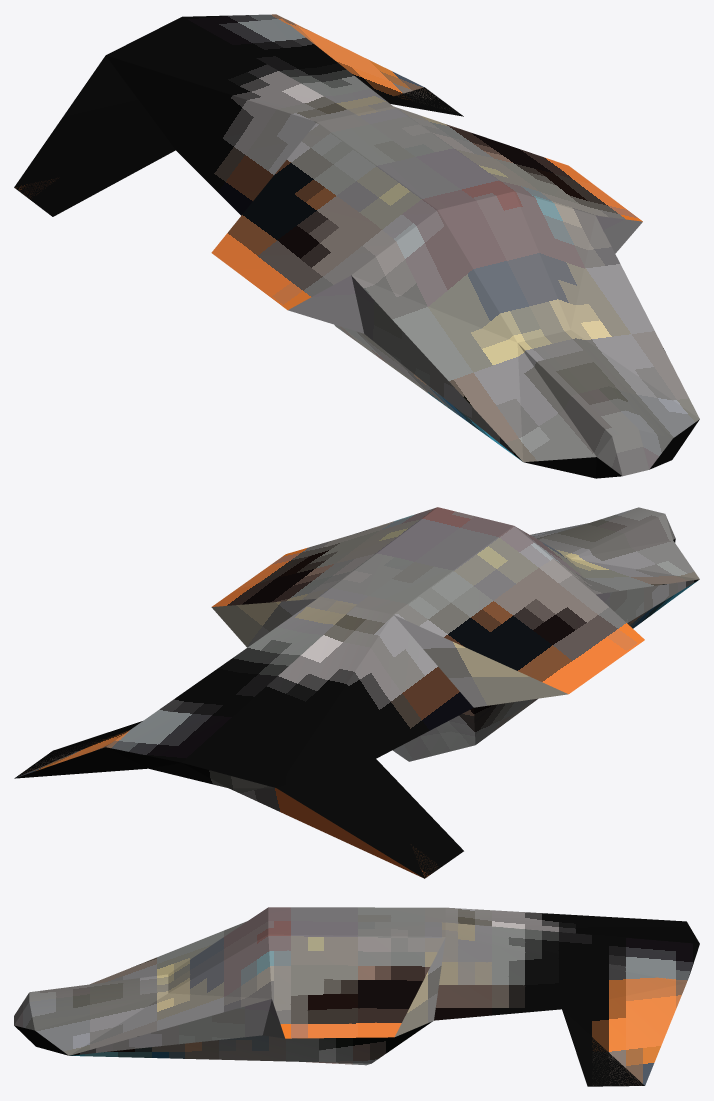
Rendered from LOD2-UVFlip.obj.
The picture shows the model from 3 angles, top to bottom: view 1: azimuth 30°, elevation 25°; view 2: azimuth 150°, elevation 25°; view 3: azimuth 270°, elevation 25°; orthographic projection. The views are drawn at different scales.
Visible parts, largest first — view 1: LOD2_Texture; view 2: LOD2_Texture; view 3: LOD2_Texture.
Boxes of the visible parts, left/top/right/bottom form: LOD2_Texture: left=14, top=14, right=699, bottom=478; LOD2_Texture: left=14, top=507, right=699, bottom=878; LOD2_Texture: left=14, top=907, right=699, bottom=1086.
Size of the model in its own units: 12.21 by 5.57 by 24.01.
